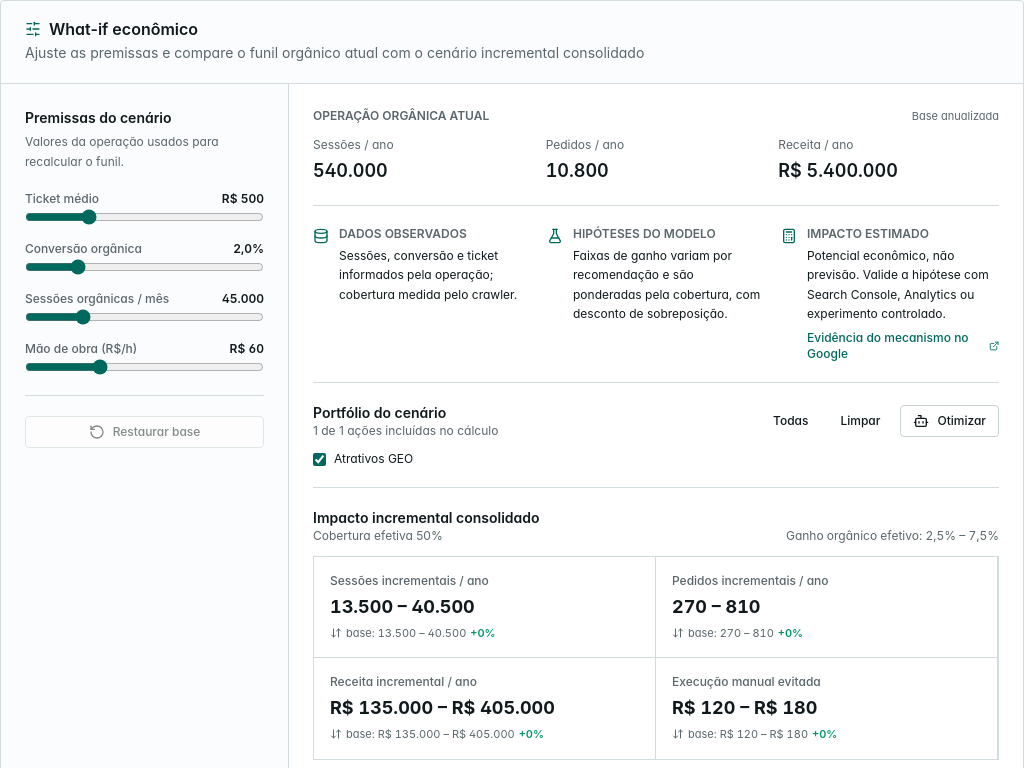
it: WhatIfPanel › recalcula o cenário ao remover ações do portfólio
This screenshot has width=1024, height=768.
Click the button "Limpar" at (860, 420), box [828,404,892,436]
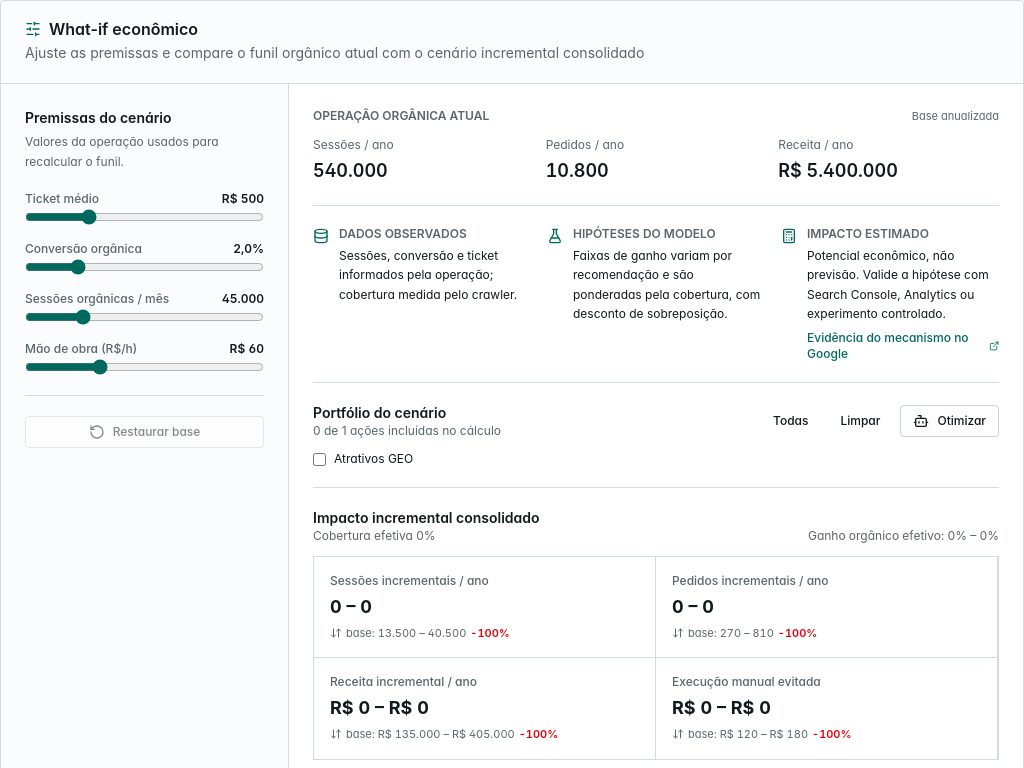
Now the text "0 de 1 ações incluídas no cálculo" is shown, box [313,422,501,438]
Now the text "R$ 0 – R$ 0" below "Receita incremental / ano" is shown, box [330,697,429,718]
